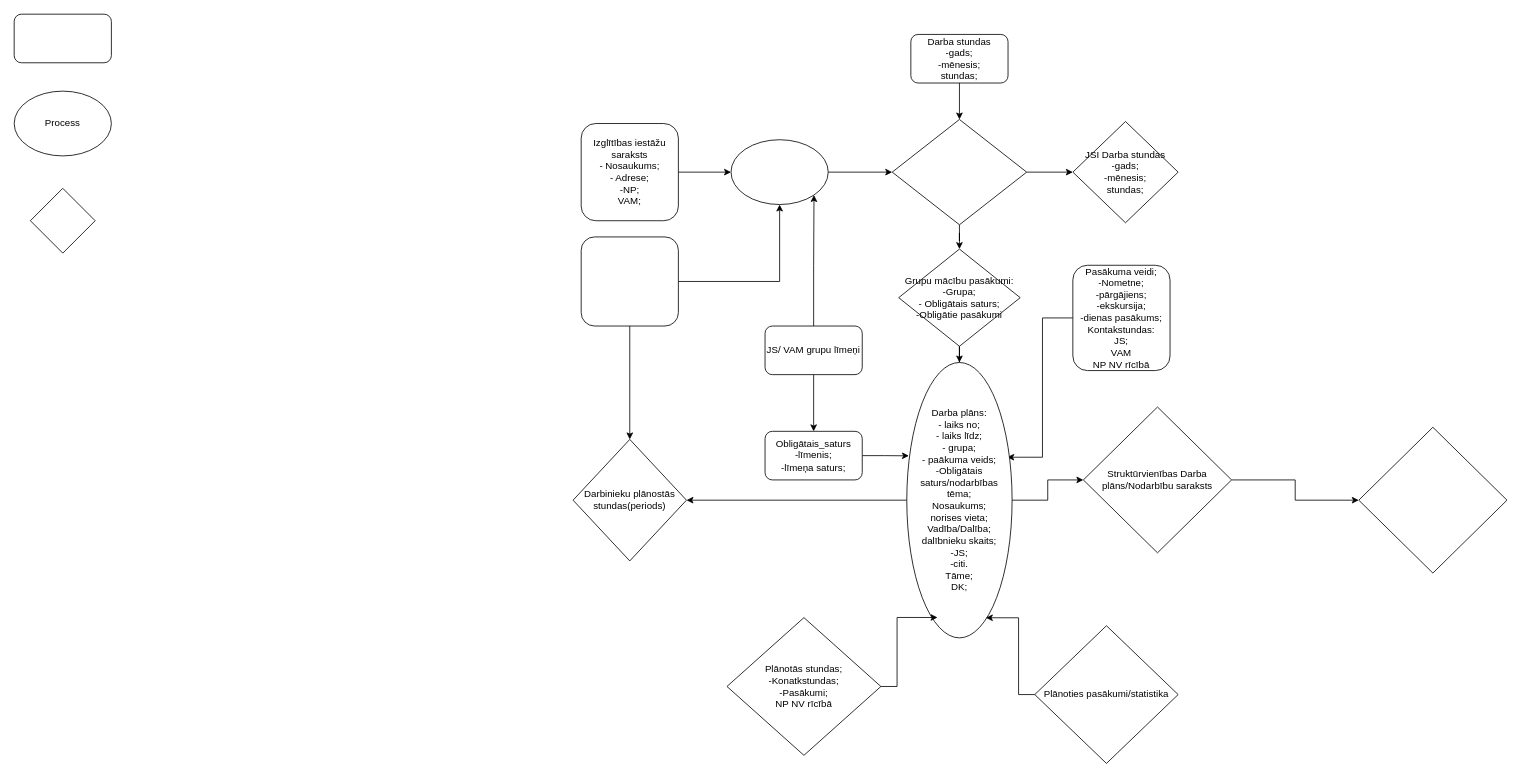
Some shapes in this 1521 by 778 pixel diagram are drawn without their labels. Each missing label, with the centre of its shape:
"Darbinieki: JSI; NP_vadība; JC_štābs" goes at point (629, 281).
"Dati" goes at point (62, 38).
"Grupu dalīšana(JS līmenis/VAM1/VAM2)" goes at point (779, 172).
"Grupu sadale/JSI slodze" goes at point (959, 172).
"Rezultāts" goes at point (62, 220).
"Statistika" goes at point (1432, 499).
